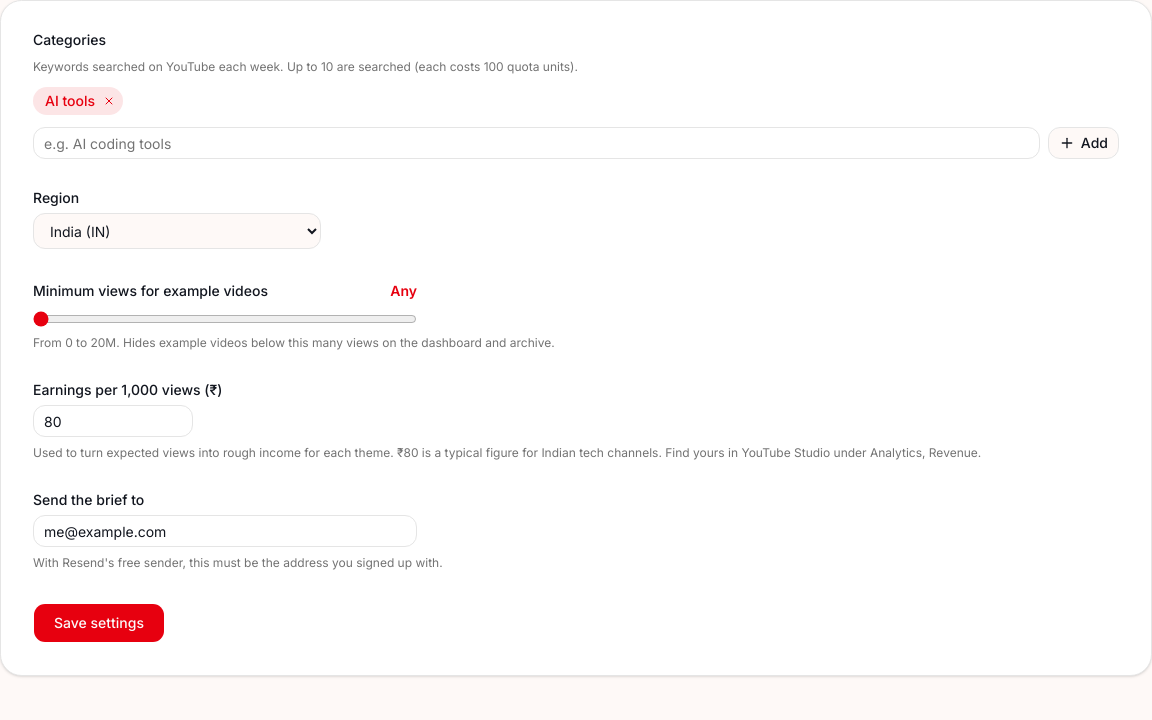
Scenario: SettingsForm categories › removes a category, and blocks saving with none left
Click the button named "remove AI tools": (109, 101) x1=99 y1=91 x2=119 y2=111
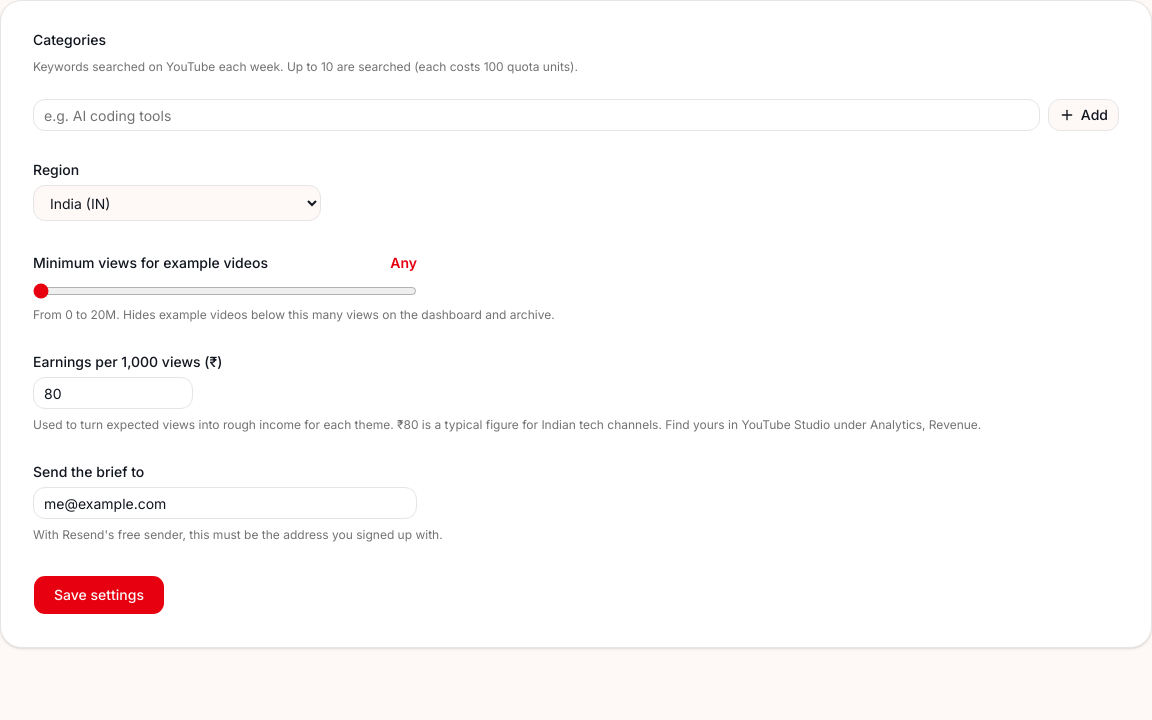
Now no list items are shown
Click the button "Save settings": (99, 595) x1=33 y1=575 x2=165 y2=615
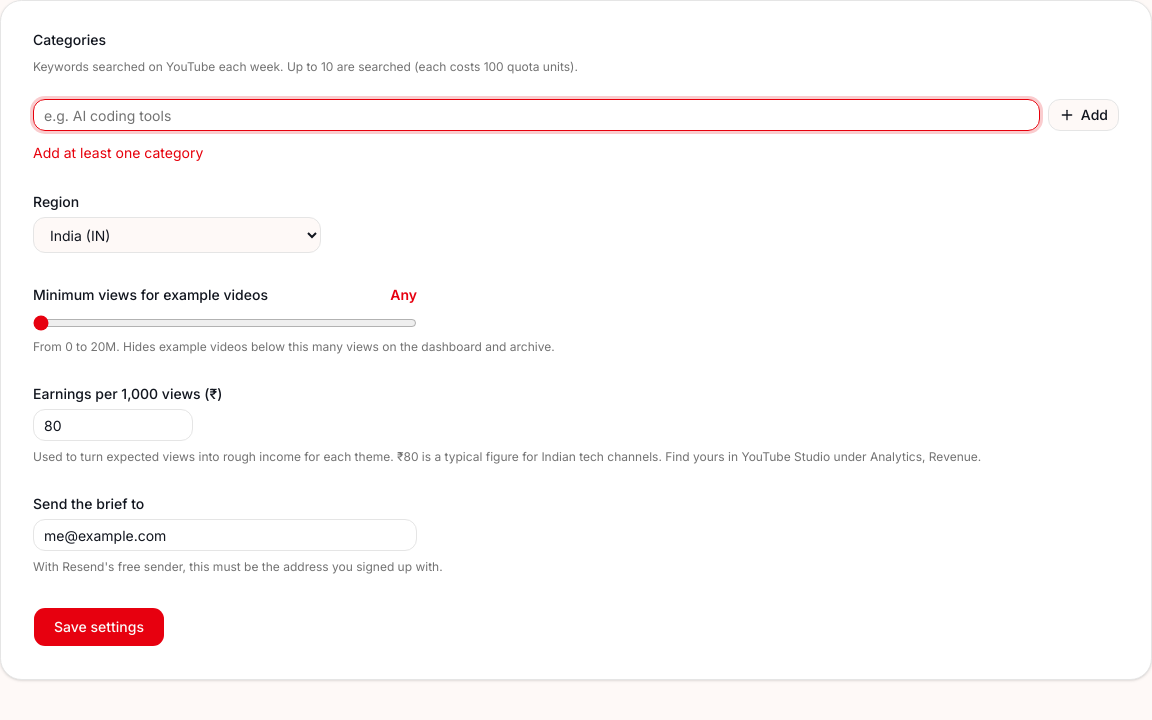
Now the message shows "at least one category", box x1=33 y1=144 x2=203 y2=161
